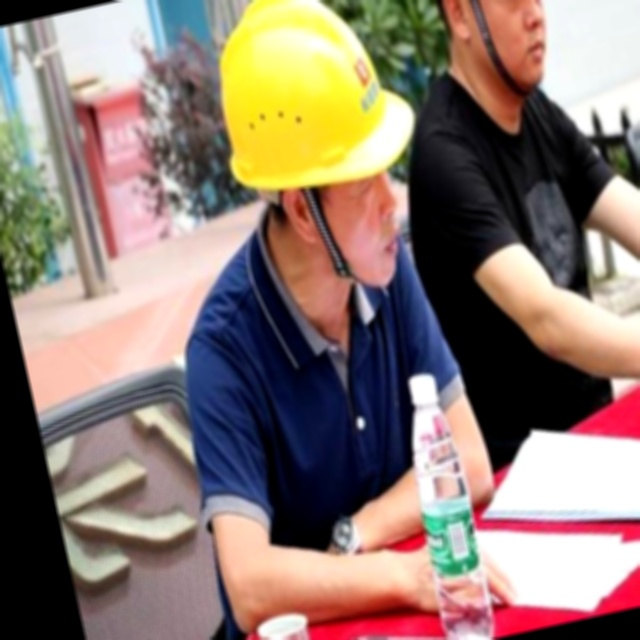Con_Casco: (204, 0, 419, 293)
